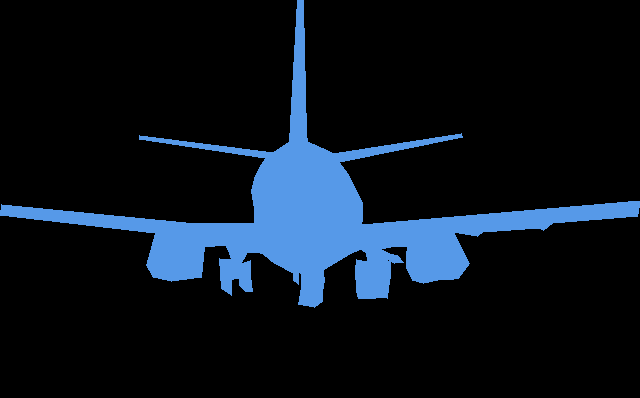Airplane: (0, 0, 640, 307)
